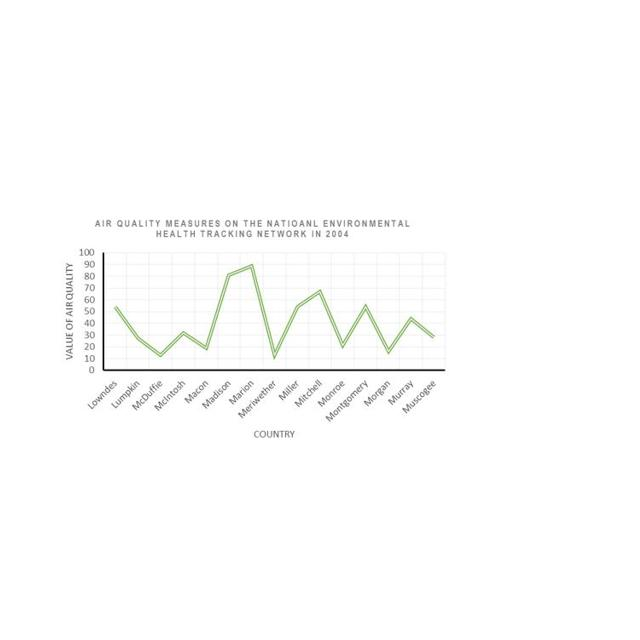Graph: (54, 213, 449, 448)
